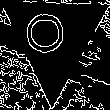O_E: (30, 15, 77, 61)
